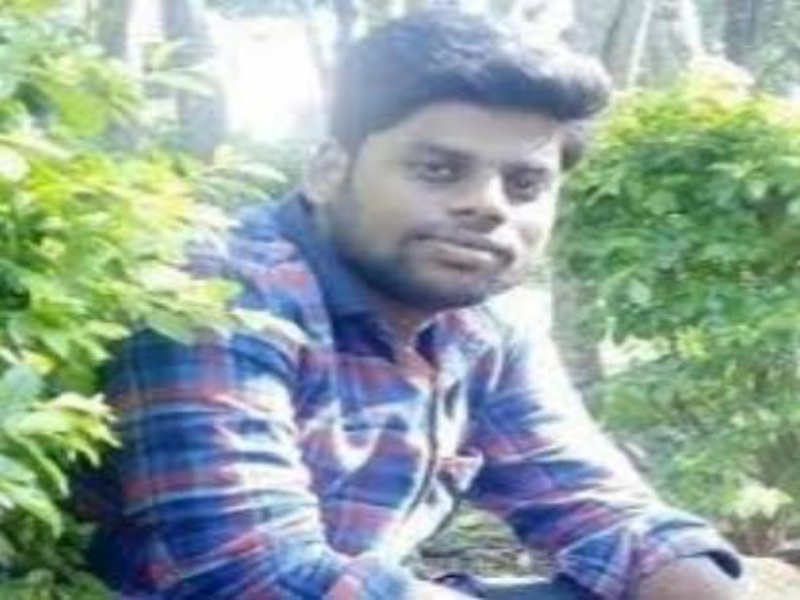TsisyArotava: (321, 14, 604, 338)
